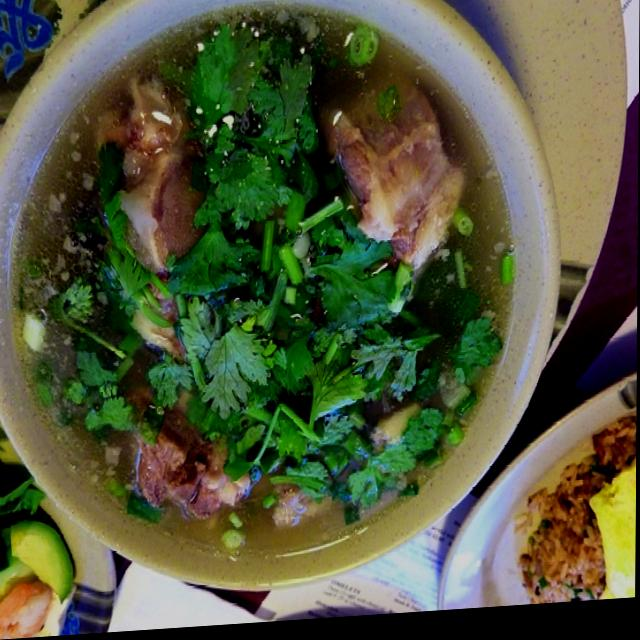汤锅炖物: (14, 12, 501, 576)
